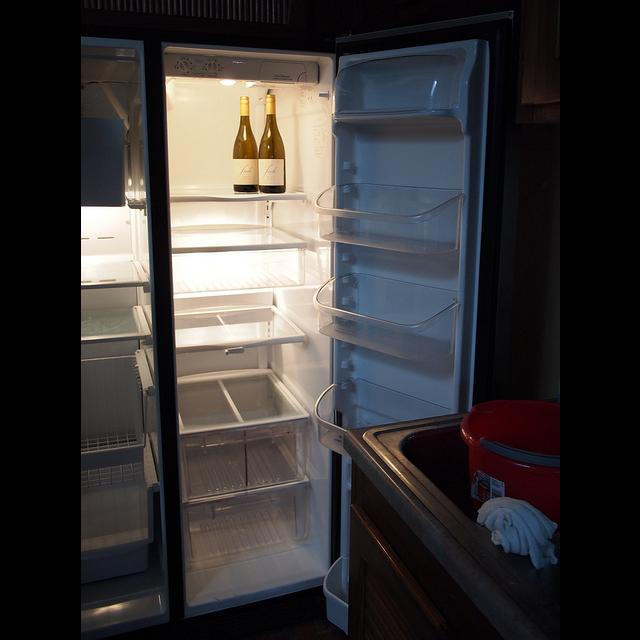Refrigerator: (81, 17, 519, 633)
